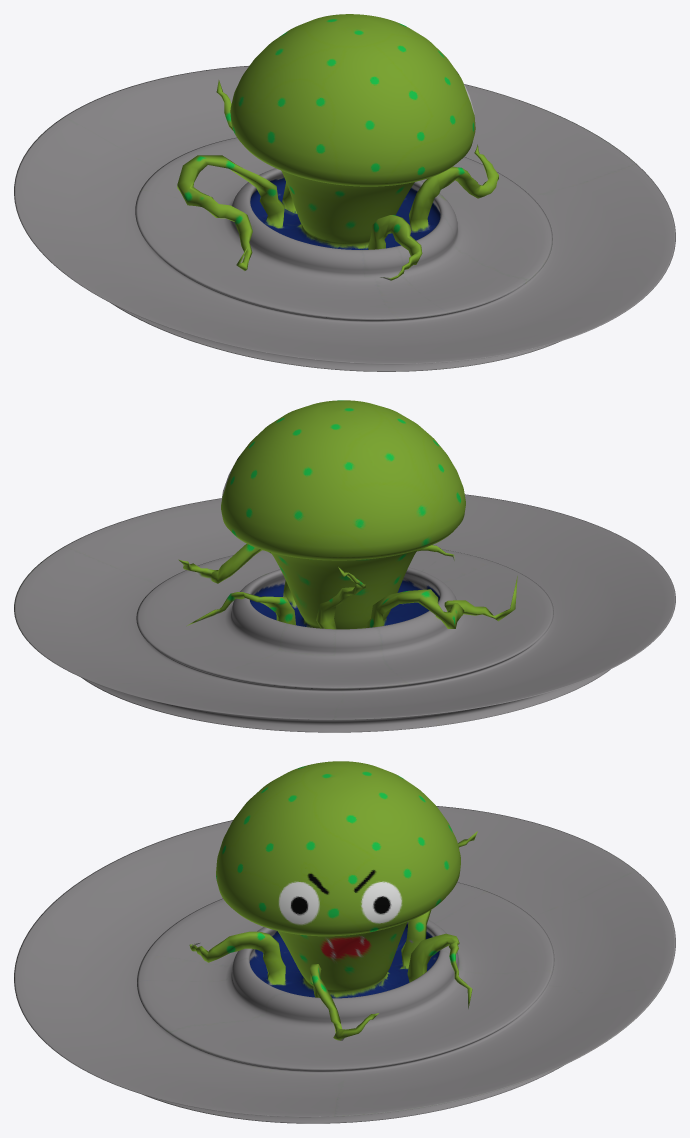
Rendered from Alien.fbx.
The picture shows the model from 3 angles, top to bottom: view 1: azimuth 30°, elevation 25°; view 2: azimuth 150°, elevation 25°; view 3: azimuth 270°, elevation 25°; orthographic projection.
Visible parts, largest first — view 1: node_id6; view 2: node_id6; view 3: node_id6.
Boxes of the visible parts, left/top/right/bottom form: node_id6: left=14, top=14, right=675, bottom=371; node_id6: left=14, top=400, right=675, bottom=732; node_id6: left=14, top=761, right=675, bottom=1123.
Bounding box in the file's own units: 0.5112 × 0.2125 × 0.5109.
2 materials, 2 textured.
